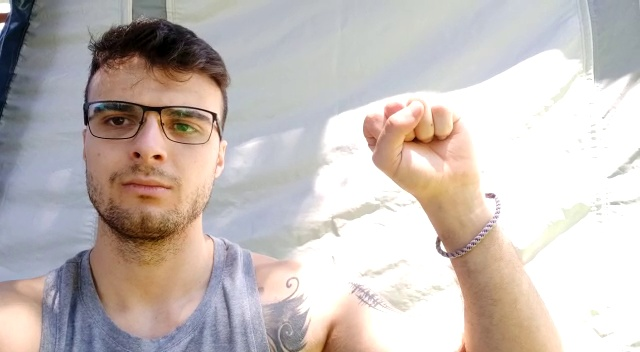Fist: (359, 94, 489, 234)
